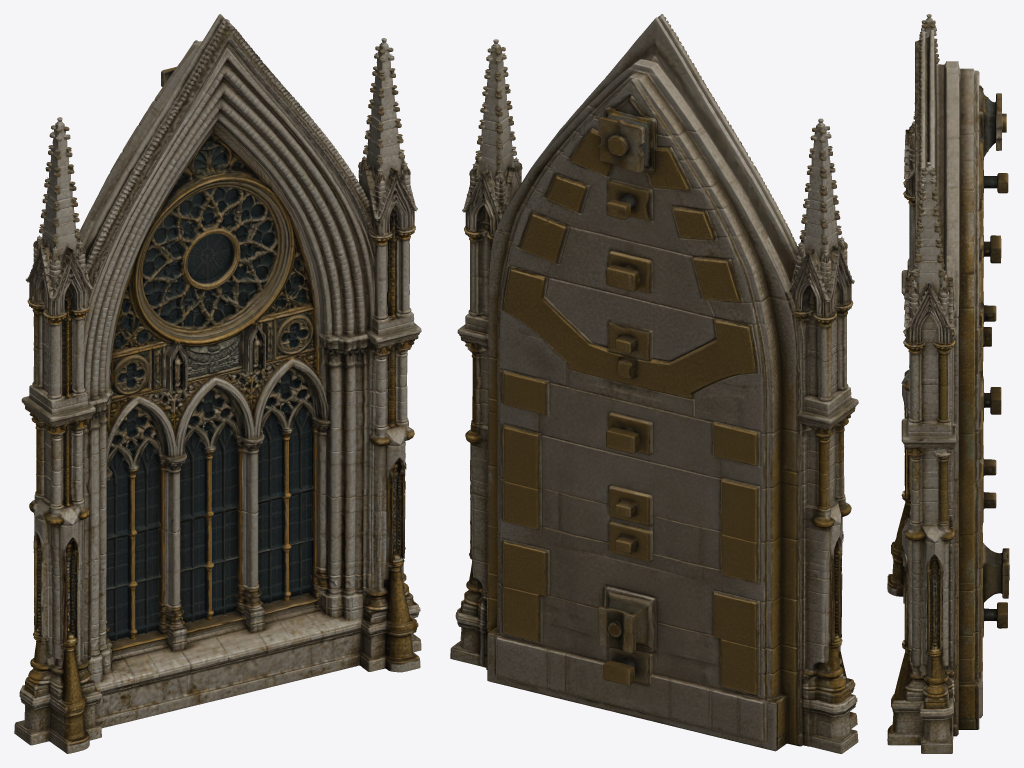
File: gothic_cathedral_detail.glb
3 renders of one model, left to right at view 1: azimuth 30°, elevation 25°; view 2: azimuth 150°, elevation 25°; view 3: azimuth 270°, elevation 25°, orthographic. The views are drawn at different scales.
Size of the model in its own units: 0.5901 by 0.9784 by 0.1707.
Materials: 1 (1 with a texture image).
